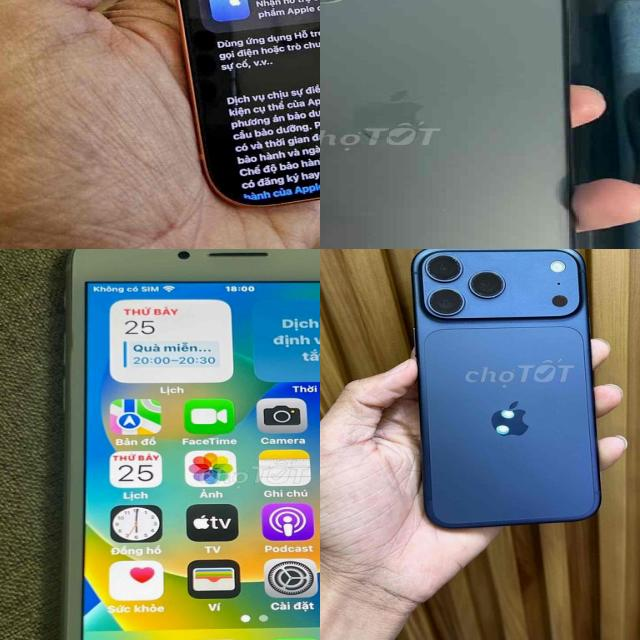gen_11: (320, 0, 582, 249)
gen_17: (402, 249, 620, 527), (138, 0, 320, 207)
gen_7_8: (37, 249, 320, 640)
